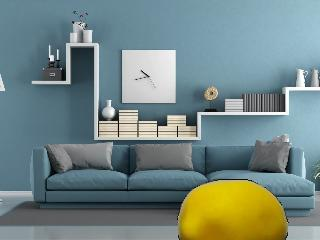lemon: (178, 180, 288, 240)
